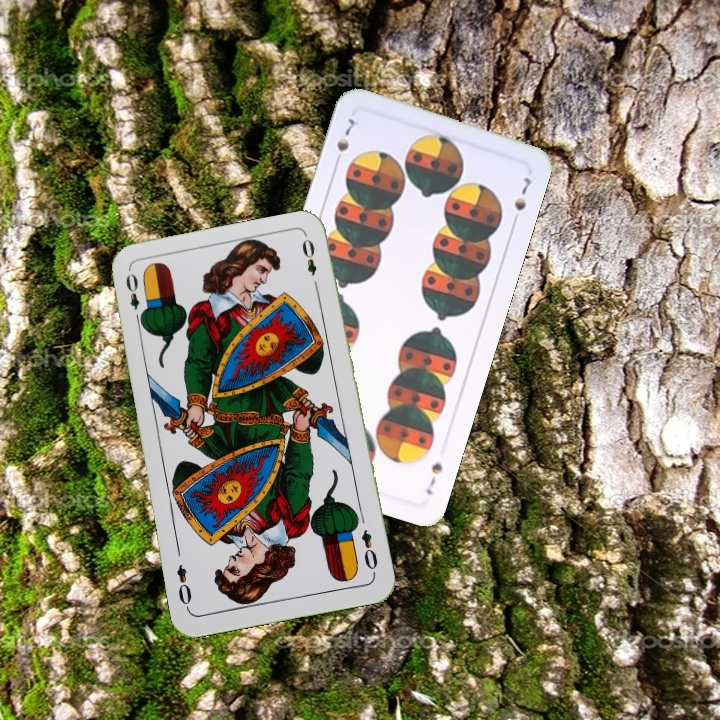EO: (121, 269, 147, 327), (357, 525, 380, 577)
S7: (330, 114, 358, 169), (422, 458, 445, 498)
